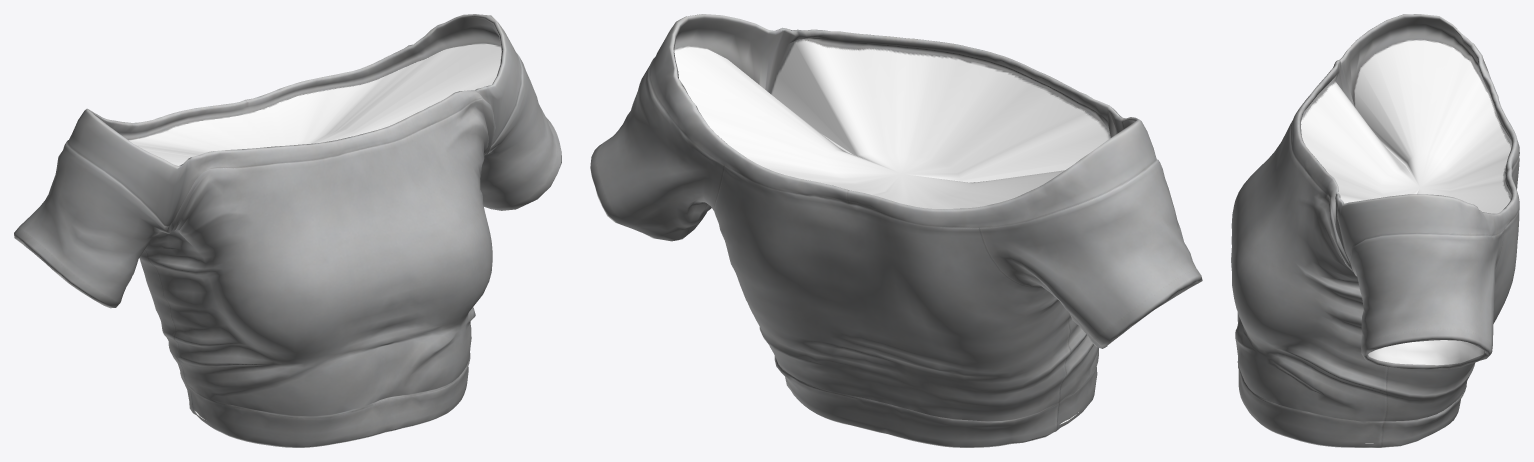
The model's file is crop-top.glb.
3 views of the same model, side by side, from view 1: azimuth 30°, elevation 25°; view 2: azimuth 150°, elevation 25°; view 3: azimuth 270°, elevation 25° (orthographic). The views are drawn at different scales.
Parts seen in each view (by area): view 1: Object_2; view 2: Object_2; view 3: Object_2.
Boxes of the visible parts, <box> form: Object_2: <box>14,14,561,447</box>; Object_2: <box>590,14,1202,447</box>; Object_2: <box>1231,14,1519,447</box>.
Bounding box in the file's own units: 0.4728 × 0.2675 × 0.2395.
Materials: 1 (1 with a texture image).
